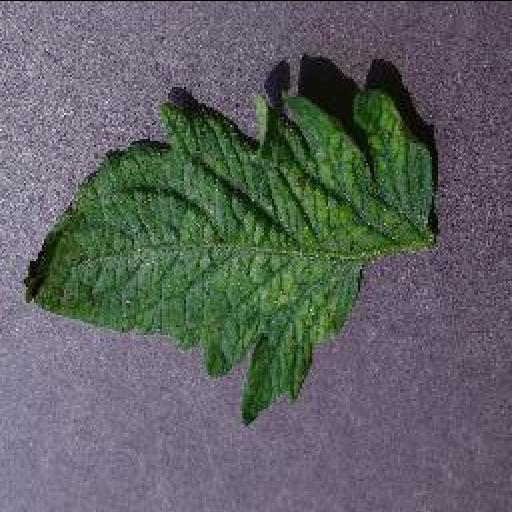Mosaic Virus: (18, 84, 436, 430)
